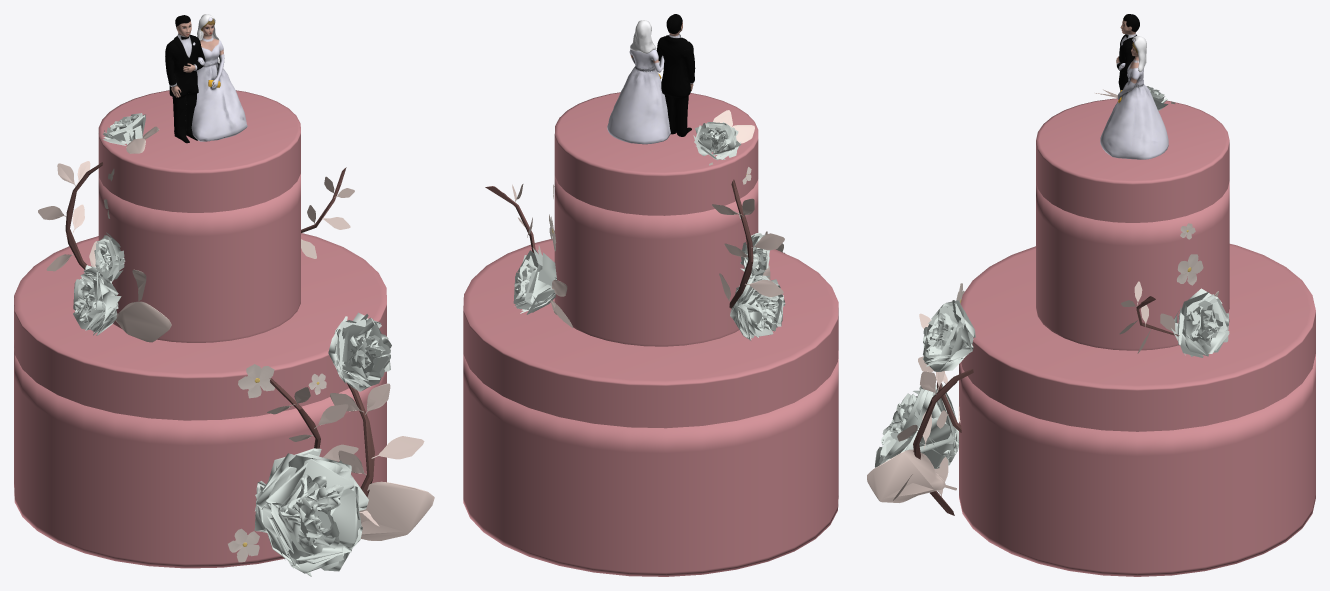
The model's file is 2-tier-blush-roses-bridegroom.glb.
3 views of the same model, side by side, from view 1: azimuth 30°, elevation 25°; view 2: azimuth 150°, elevation 25°; view 3: azimuth 270°, elevation 25° (orthographic). The views are drawn at different scales.
Parts seen in each view (by area): view 1: Cylinder.023, Cylinder.013, grid.025, 13501_Cake_Topper_Bride_Groom_v1_L1.003, grid.024, Plane.049, Plane.059, grid.026, Plane.056, Plane.058, Plane.052, Plane.045 (+4 smaller); view 2: Cylinder.023, Cylinder.013, 13501_Cake_Topper_Bride_Groom_v1_L1.003, grid.026, Plane.056, grid.028, grid.014, grid.027, Plane.045; view 3: Cylinder.023, Cylinder.013, 13501_Cake_Topper_Bride_Groom_v1_L1.003, grid.025, grid.028, Plane.049, grid.024, Plane.059, Plane.045, Plane.058.
Boxes of the visible parts, bbox=[...] form: Cylinder.023: bbox=[14, 233, 386, 568]; Cylinder.013: bbox=[98, 90, 300, 342]; grid.025: bbox=[254, 448, 368, 576]; 13501_Cake_Topper_Bride_Groom_v1_L1.003: bbox=[165, 14, 247, 143]; grid.024: bbox=[328, 312, 391, 391]; Plane.049: bbox=[359, 481, 434, 540]; Plane.059: bbox=[330, 383, 424, 526]; grid.026: bbox=[73, 264, 121, 335]; Plane.056: bbox=[38, 161, 102, 271]; Plane.058: bbox=[267, 378, 358, 461]; Plane.052: bbox=[115, 301, 171, 342]; Plane.045: bbox=[301, 167, 354, 258]; Cylinder.023: bbox=[463, 239, 838, 576]; Cylinder.013: bbox=[554, 92, 758, 346]; 13501_Cake_Topper_Bride_Groom_v1_L1.003: bbox=[607, 14, 695, 144]; grid.026: bbox=[730, 275, 785, 340]; Plane.056: bbox=[712, 179, 784, 308]; grid.028: bbox=[513, 248, 556, 314]; grid.014: bbox=[693, 122, 741, 160]; grid.027: bbox=[740, 233, 769, 280]; Plane.045: bbox=[485, 184, 541, 254]; Cylinder.023: bbox=[959, 244, 1315, 576]; Cylinder.013: bbox=[1036, 98, 1229, 350]; 13501_Cake_Topper_Bride_Groom_v1_L1.003: bbox=[1100, 14, 1168, 159]; grid.025: bbox=[875, 383, 958, 468]; grid.028: bbox=[1171, 288, 1229, 357]; Plane.049: bbox=[867, 449, 956, 502]; grid.024: bbox=[922, 300, 975, 371]; Plane.059: bbox=[893, 369, 973, 515]; Plane.045: bbox=[1119, 281, 1179, 353]; Plane.058: bbox=[918, 313, 961, 432].
Bounding box in the file's own units: 3.4 × 4.92 × 4.11.
Materials: 7 (1 with a texture image).
